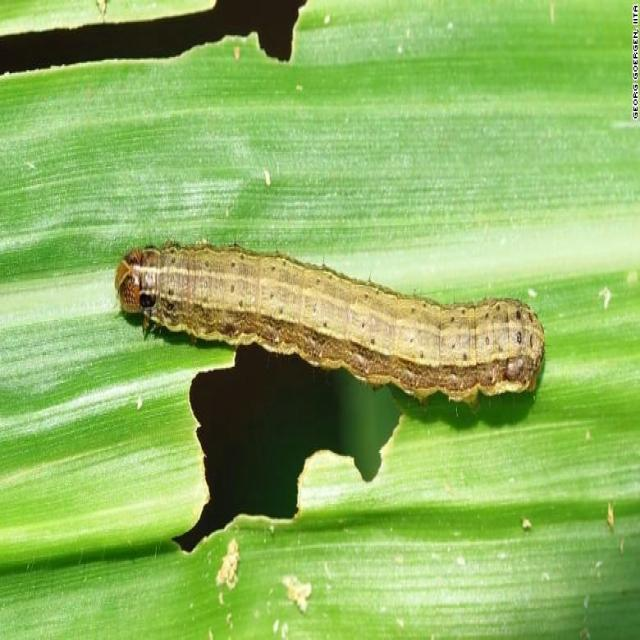army worm: (113, 239, 547, 406)
